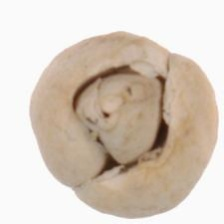L3: (67, 62, 173, 176)
L4: (29, 30, 219, 219)
